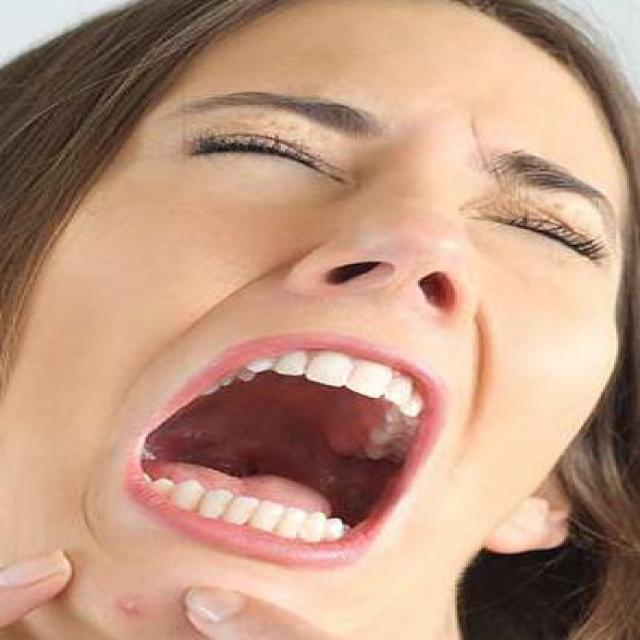blackheads: (113, 593, 144, 618)
